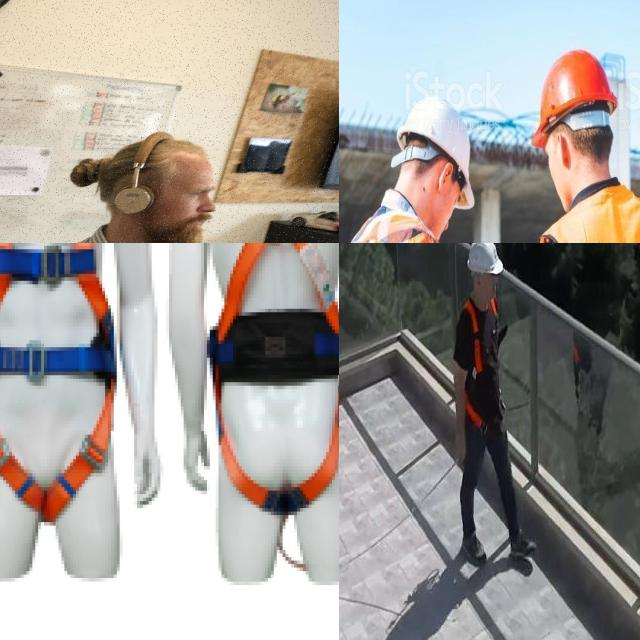Ear-protection: (88, 131, 239, 243)
Harness: (0, 243, 164, 436), (242, 243, 339, 434), (464, 298, 488, 429)
No_Ear-Protection: (551, 126, 572, 168), (435, 152, 455, 196)
face_nomask: (544, 128, 592, 209), (424, 160, 466, 243)
head_helmet: (405, 83, 480, 207), (532, 52, 617, 146)
person: (537, 41, 640, 243), (357, 83, 472, 243)
